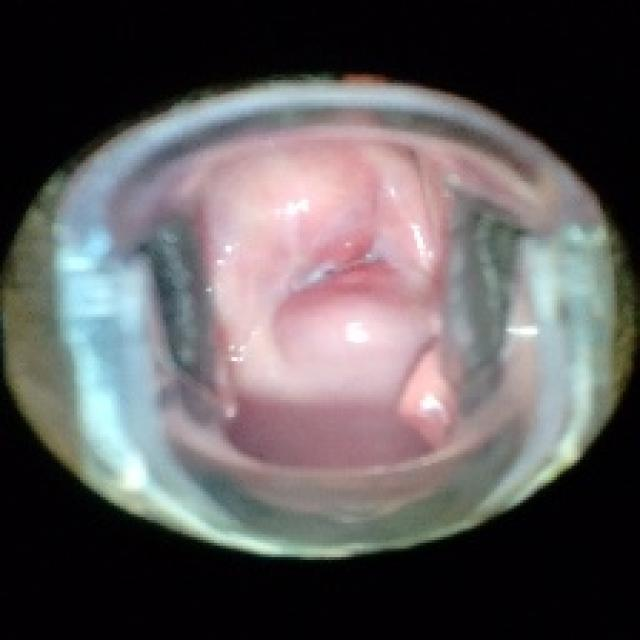type-2: (27, 96, 605, 510)
